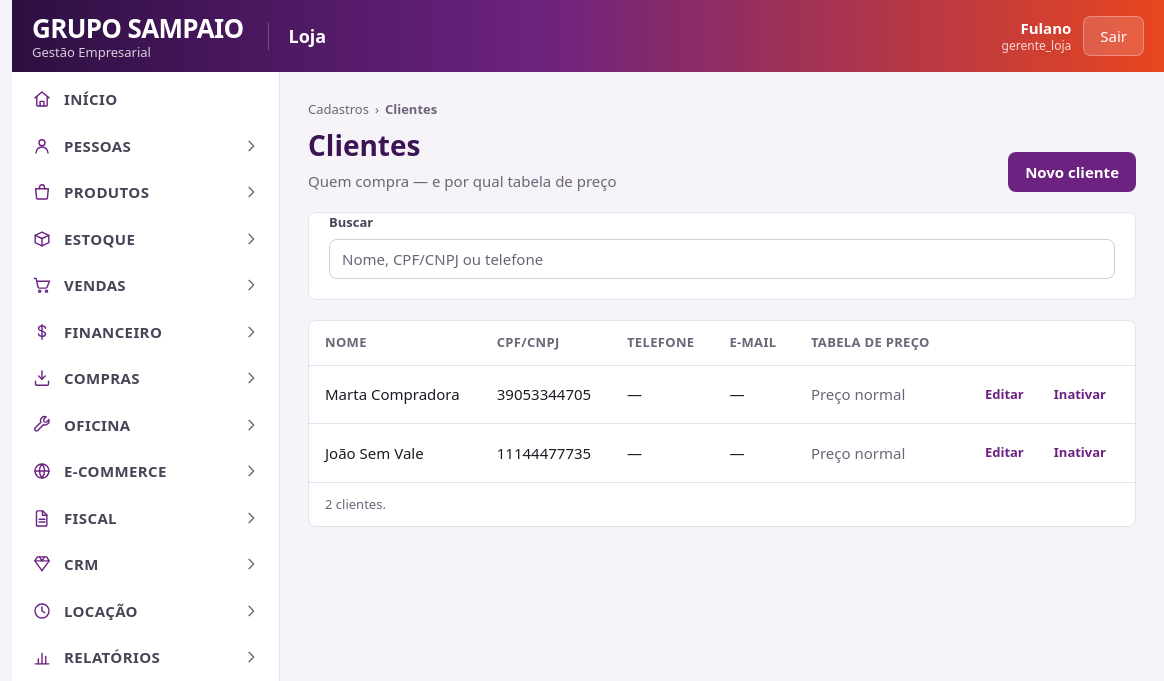
Test case: a ficha do cliente mostra o extrato › abre a ficha e lista o crédito com saldo e origem navegável
What coordinates should you click on to do the following:
click the button with aria-label "Editar cadastro de Marta Compradora"
I would click on:
 (1004, 394)
Its box is [972, 378, 1037, 411].
(page scrolled)
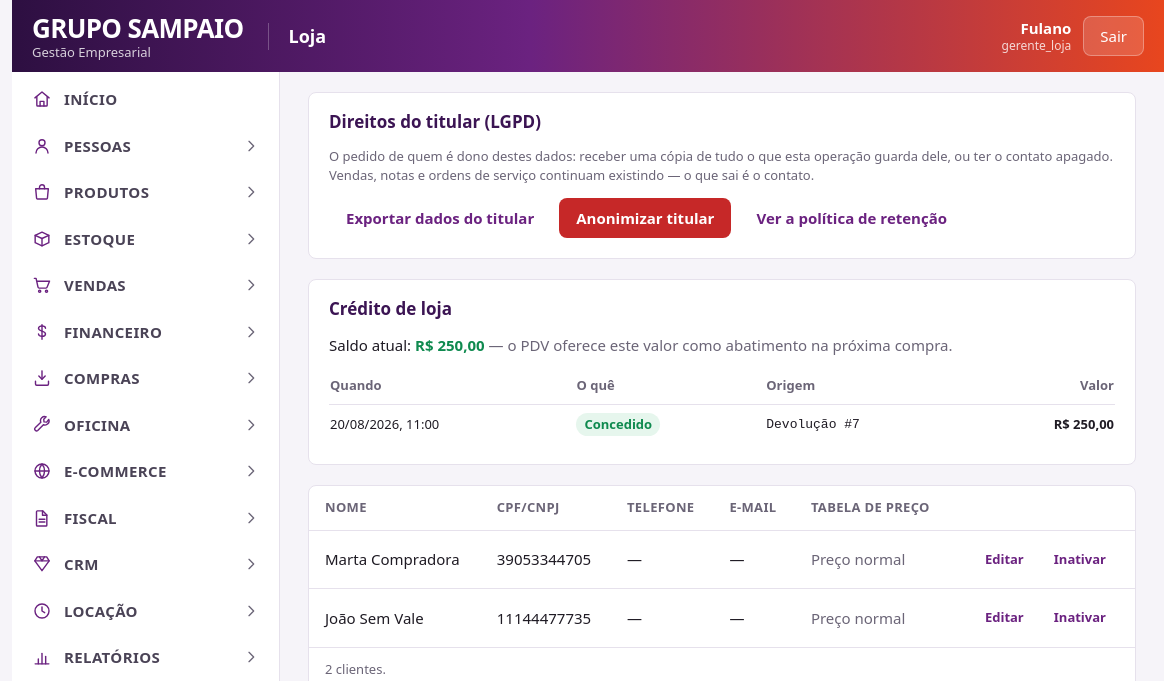
Check: the text "Devolução #7" shows "Concedido", box [584, 414, 652, 432]
